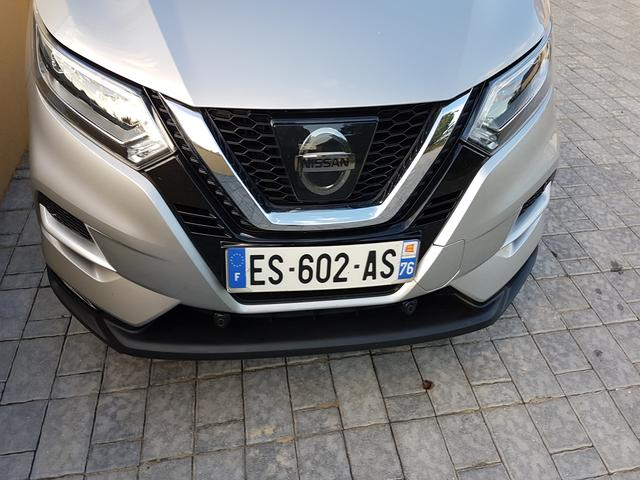Quashquai: (205, 221, 437, 303)
